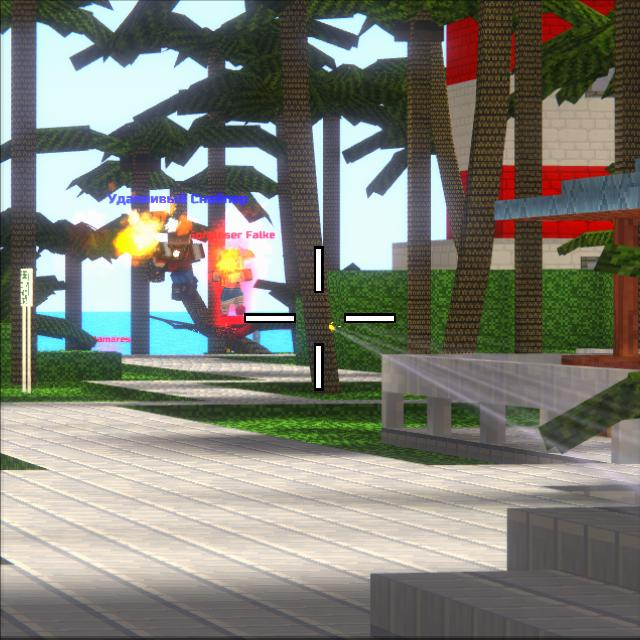Enemy: (213, 250, 254, 317)
